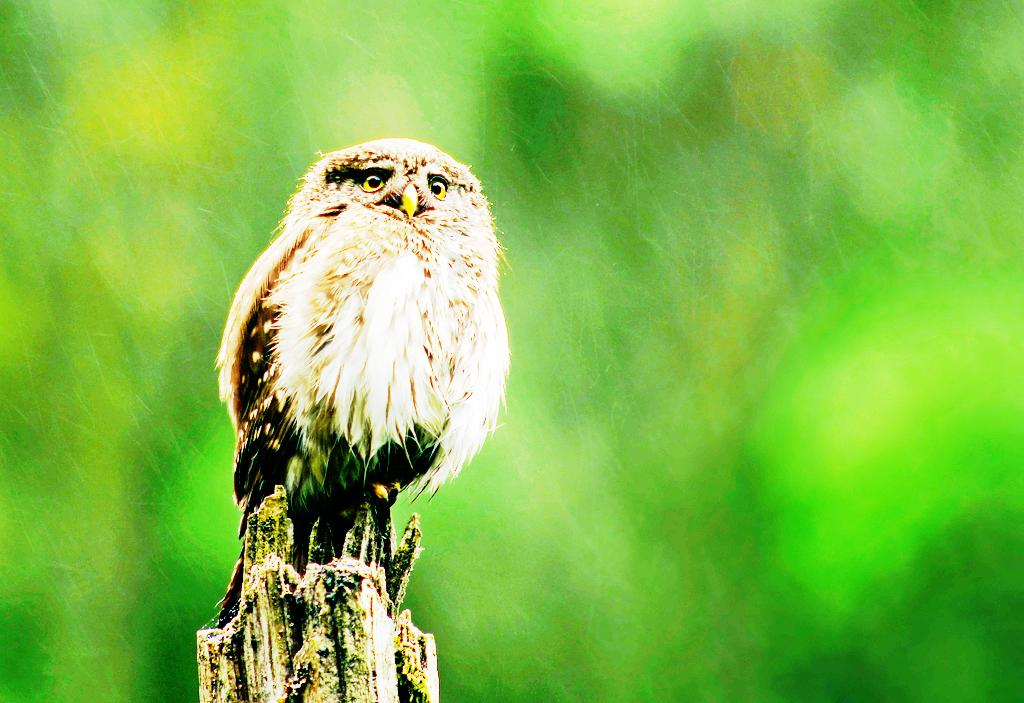Owl: (189, 129, 518, 578)
